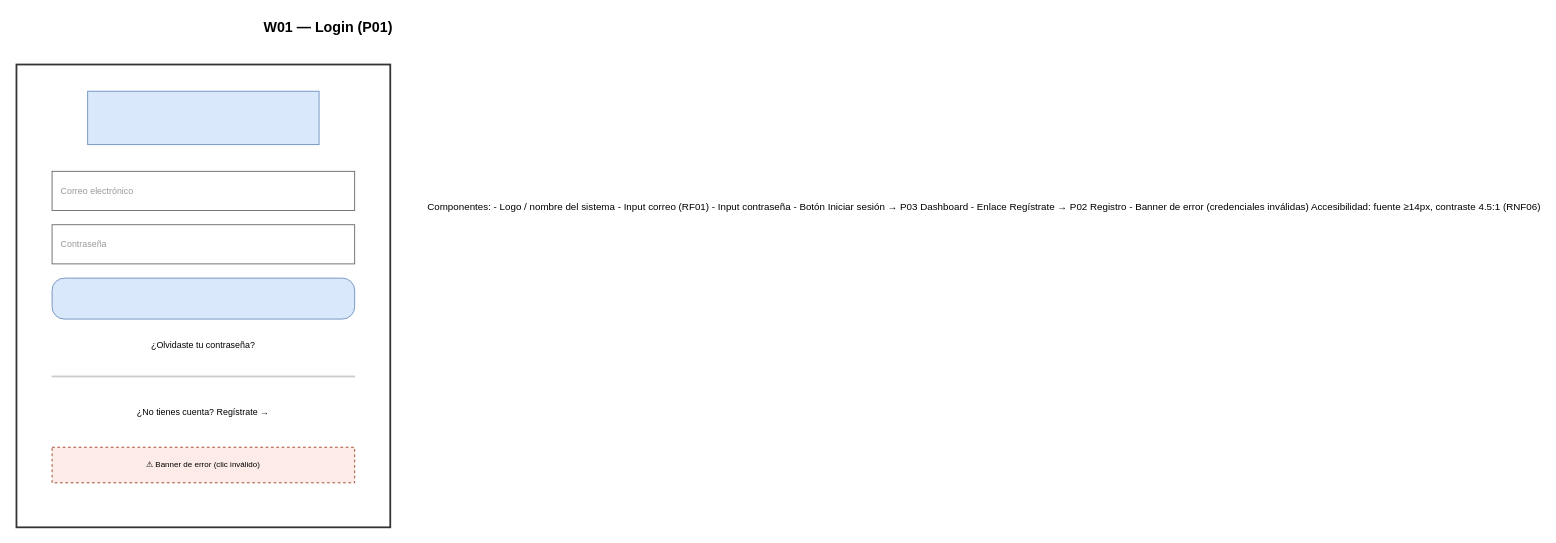
Image size: 1556x543. Some labels were removed from this diagram. The shapes that lost their labels are listed below. From the top down, each one's centre as x and y in pixels, then its label:
pixel 203 117: LOGO Plataforma Gamificada
pixel 203 298: INICIAR SESIÓN
